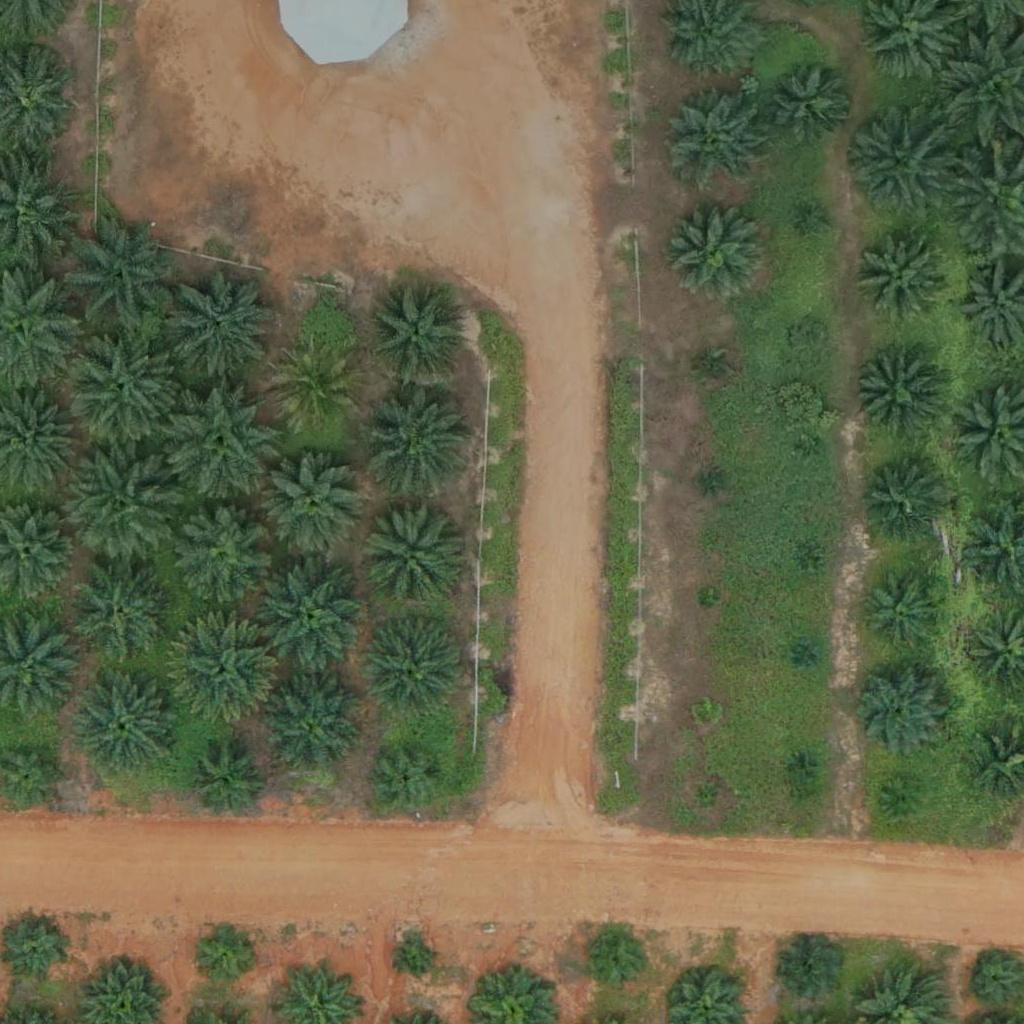Kelapa_Sawit: (844, 106, 957, 220), (168, 269, 281, 383), (166, 385, 279, 499), (66, 220, 179, 334), (255, 558, 368, 671), (66, 326, 178, 440), (168, 619, 280, 732), (844, 655, 956, 768), (363, 384, 475, 497), (63, 451, 175, 564), (665, 89, 765, 190), (663, 197, 763, 298), (365, 284, 465, 385), (262, 676, 362, 777), (71, 567, 171, 668), (75, 674, 175, 775), (360, 504, 460, 604), (365, 618, 465, 718), (266, 457, 366, 557), (172, 507, 272, 607), (862, 566, 950, 655), (859, 458, 947, 546), (271, 347, 359, 435), (860, 230, 947, 318), (853, 352, 940, 440), (766, 59, 853, 147), (371, 740, 446, 816), (189, 746, 264, 821), (777, 939, 840, 1002), (6, 919, 68, 982), (192, 920, 254, 983), (587, 932, 649, 995), (972, 956, 1022, 1006), (791, 322, 829, 360), (884, 777, 922, 815), (399, 940, 436, 978), (804, 207, 829, 232), (800, 437, 825, 462), (794, 553, 819, 578), (700, 357, 725, 382), (700, 470, 725, 495), (696, 588, 721, 613), (692, 700, 717, 725), (695, 784, 720, 809), (795, 642, 820, 667), (788, 752, 813, 777)
